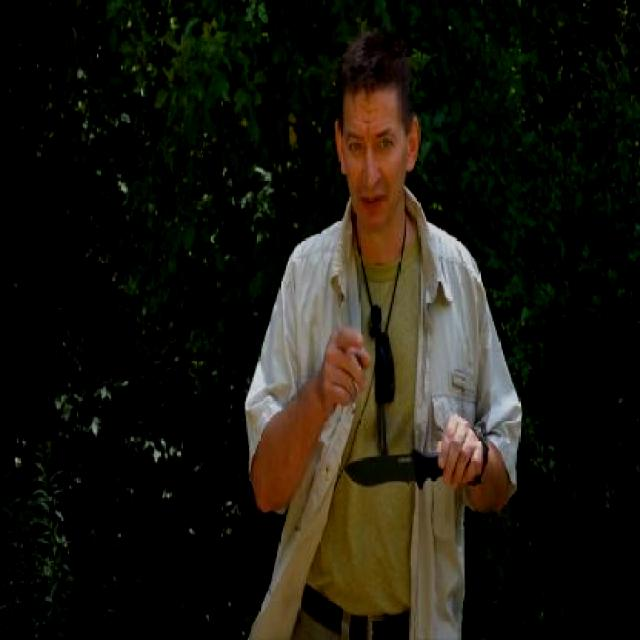knife: (338, 409, 478, 498)
